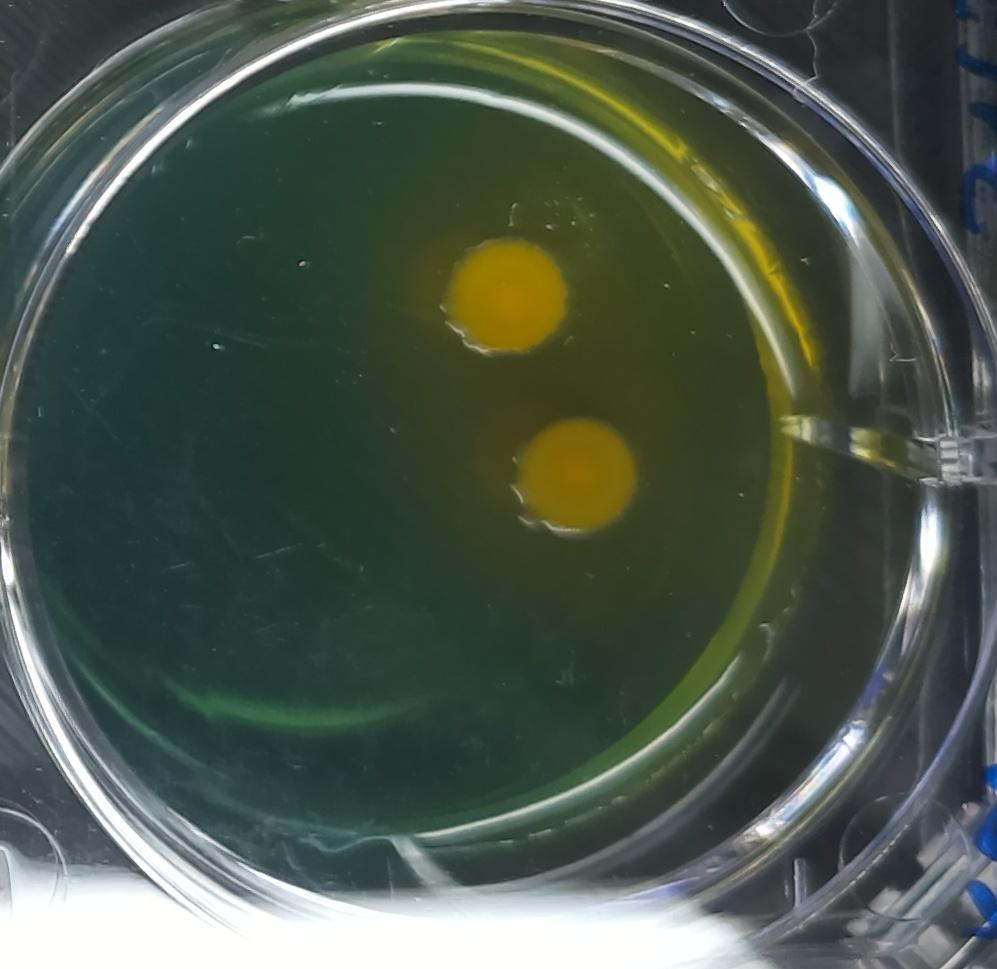vharveyi: (435, 218, 579, 368), (513, 410, 645, 546)
